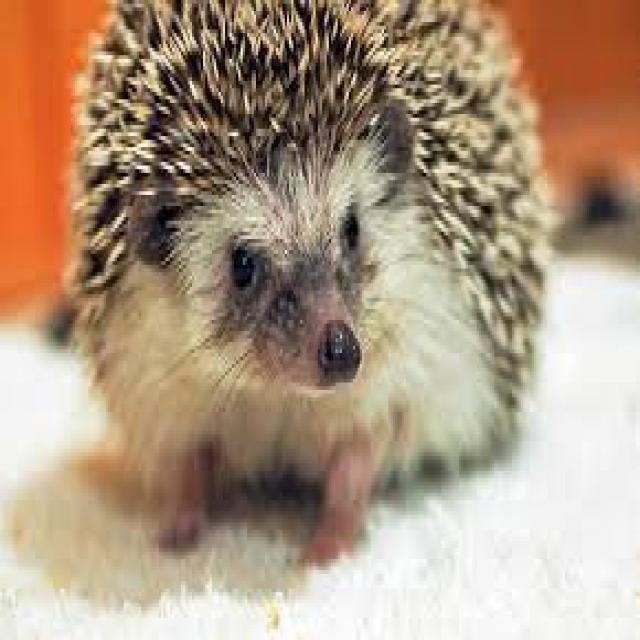Hedgehog: (58, 0, 558, 550)
